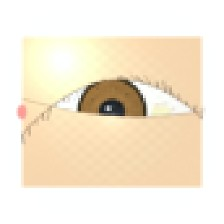pinguecula_lesion: (141, 95, 181, 128)
